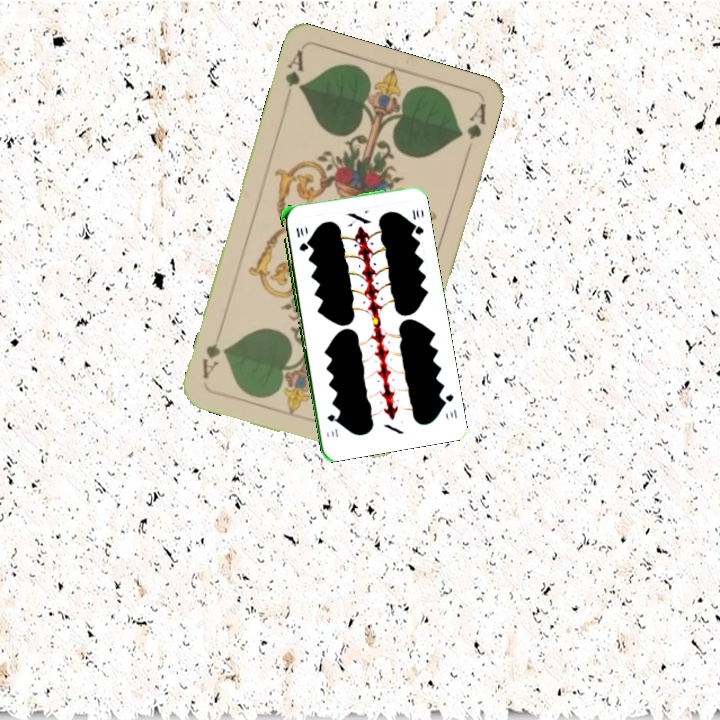G10: (437, 390, 460, 421), (292, 224, 309, 254)
GA: (281, 47, 306, 95)
